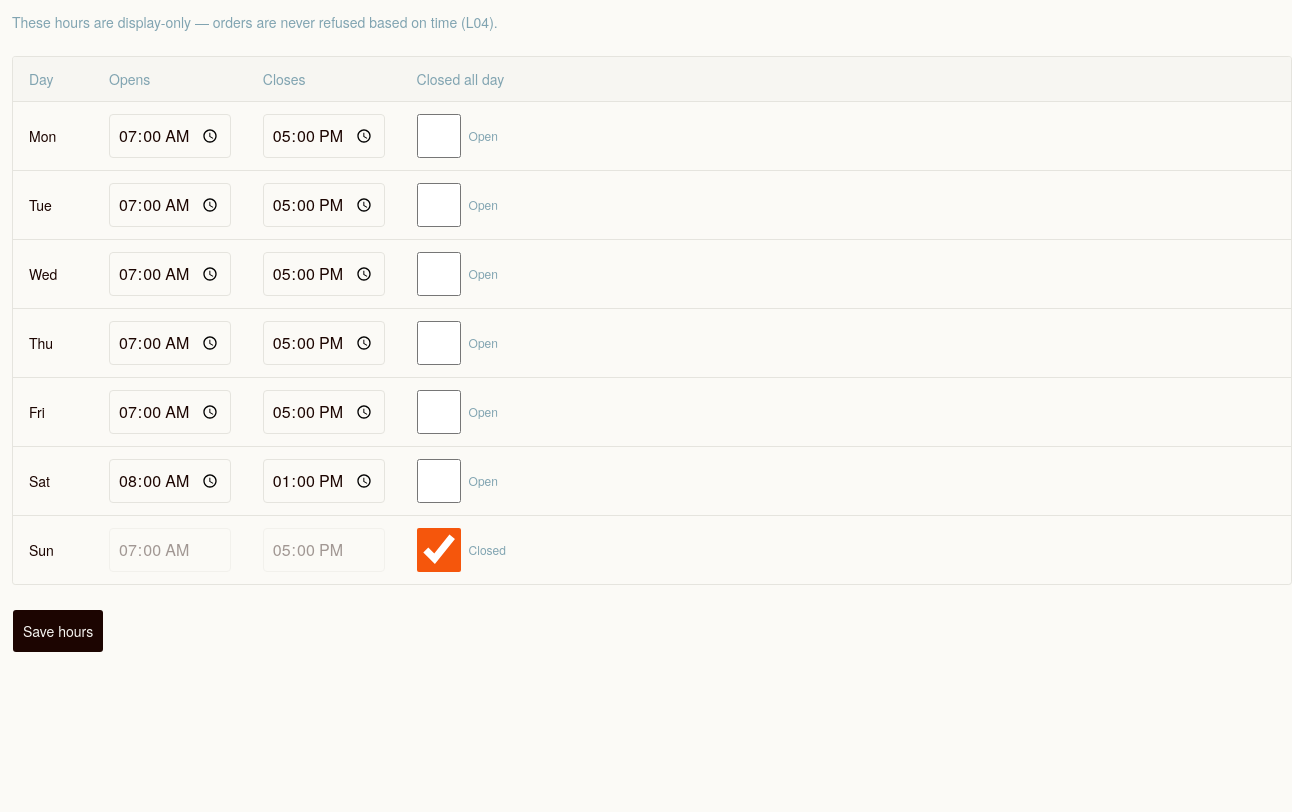
HoursEditor — QA r1-admin › shows a message and saves nothing when a day closes before it opens
Replace the text in the time field named "Wed opens at" with "10:00" at (170, 274), box x1=109 y1=252 x2=231 y2=296
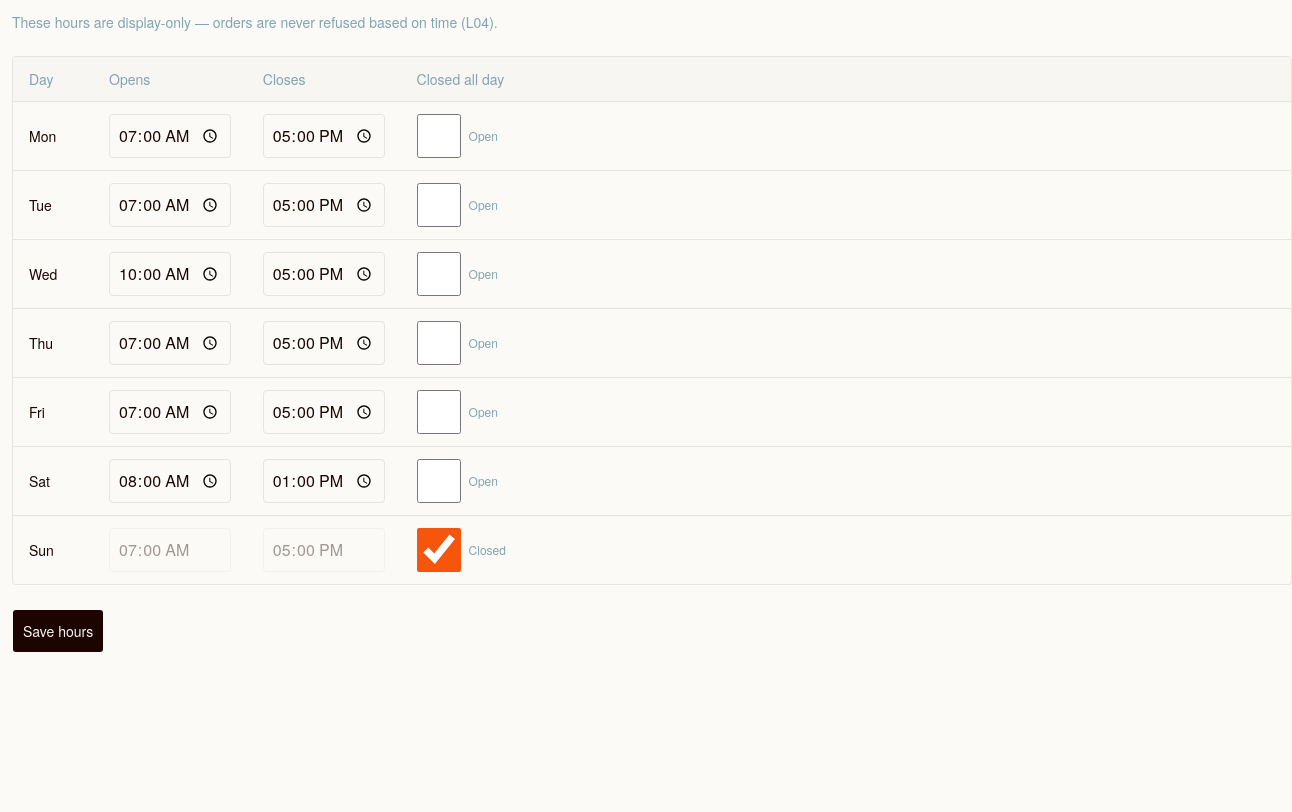
Replace the text in the time field named "Wed closes at" with "09:00" at (324, 274), box x1=263 y1=252 x2=385 y2=296
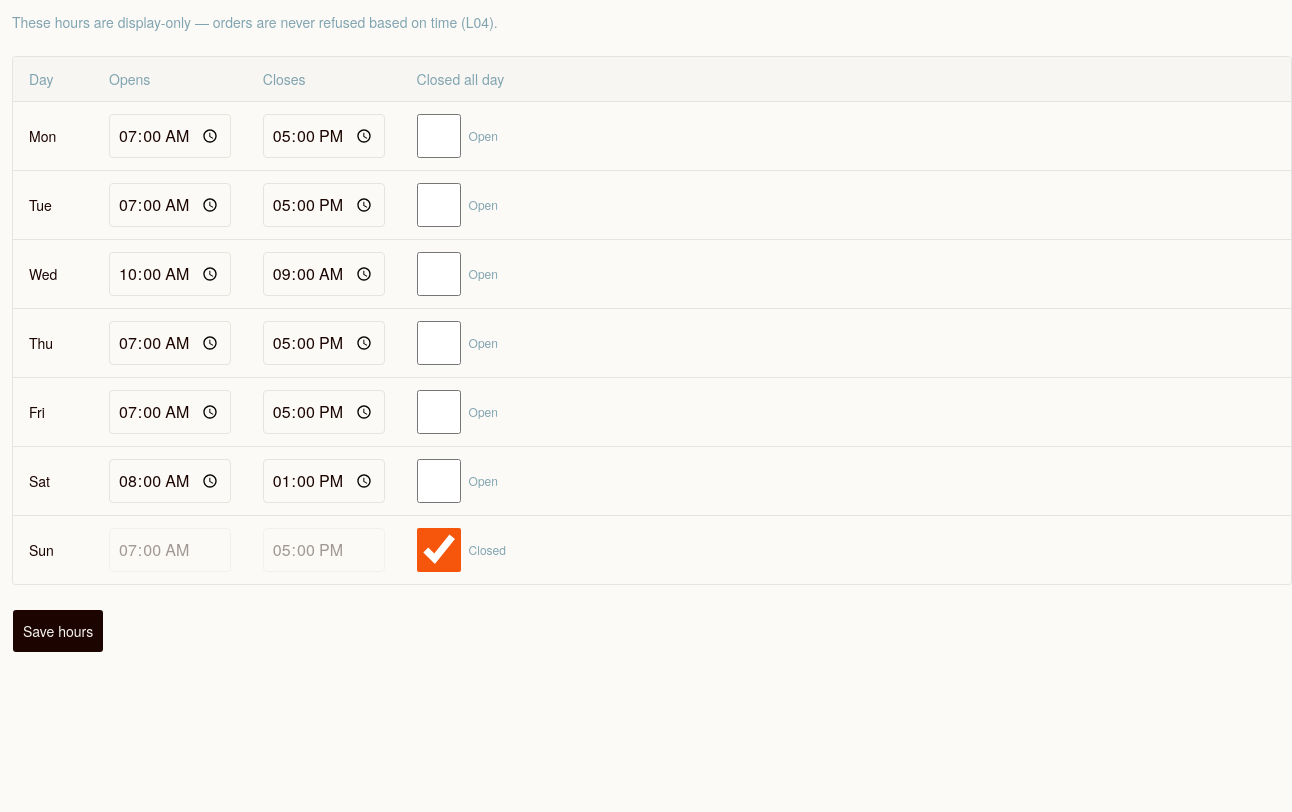
Click the button "Save hours" at (58, 631), box x1=12 y1=609 x2=104 y2=653
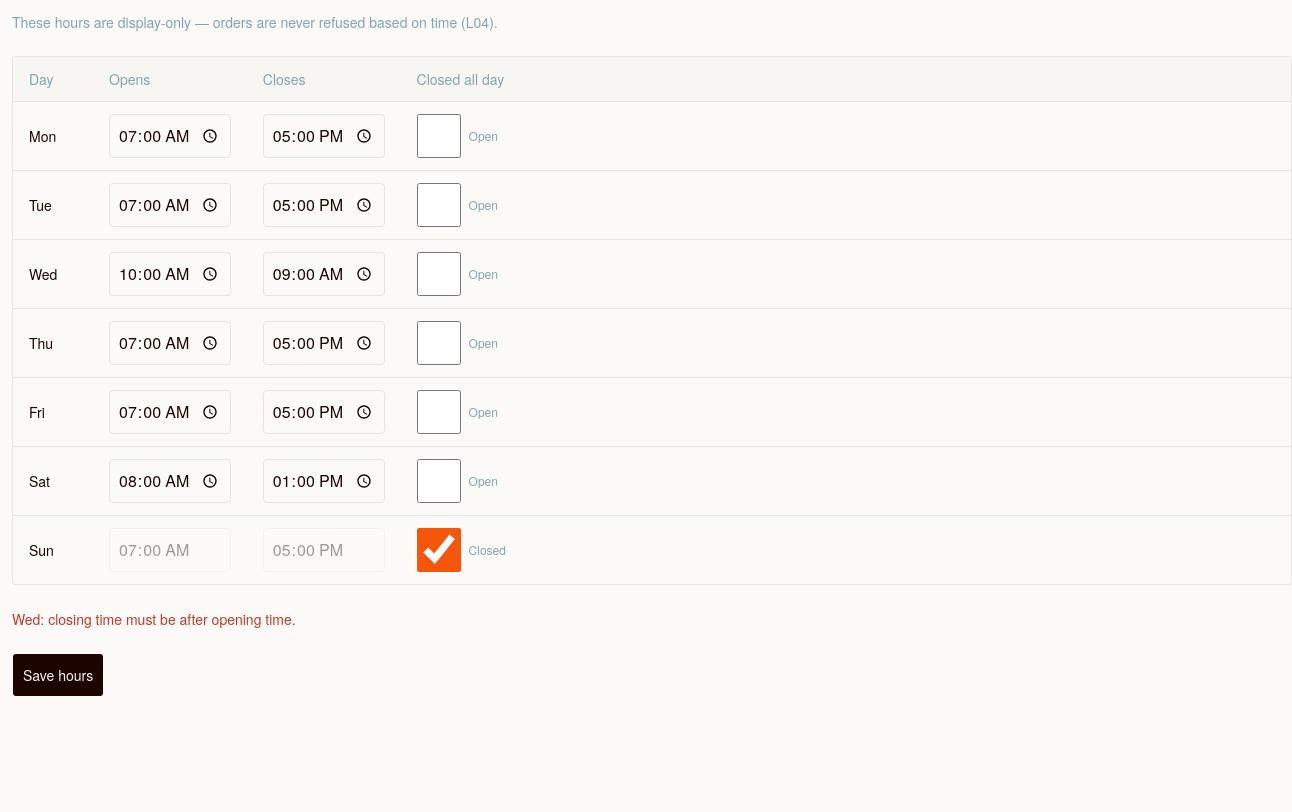
Expected: the message reads "Wed: closing time must be after opening time.", x1=12 y1=609 x2=296 y2=629
